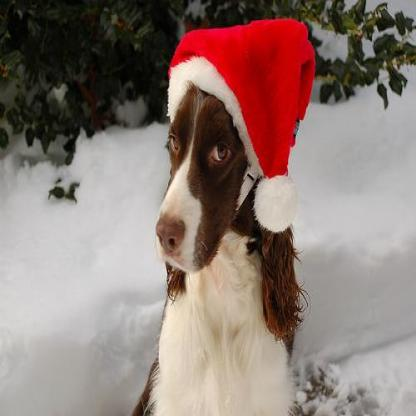English_springer: (128, 60, 307, 413)
